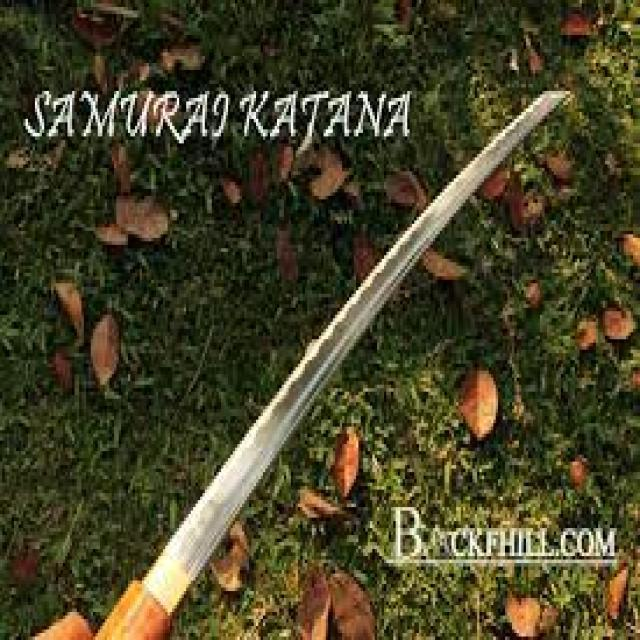long sword: (87, 86, 571, 634)
